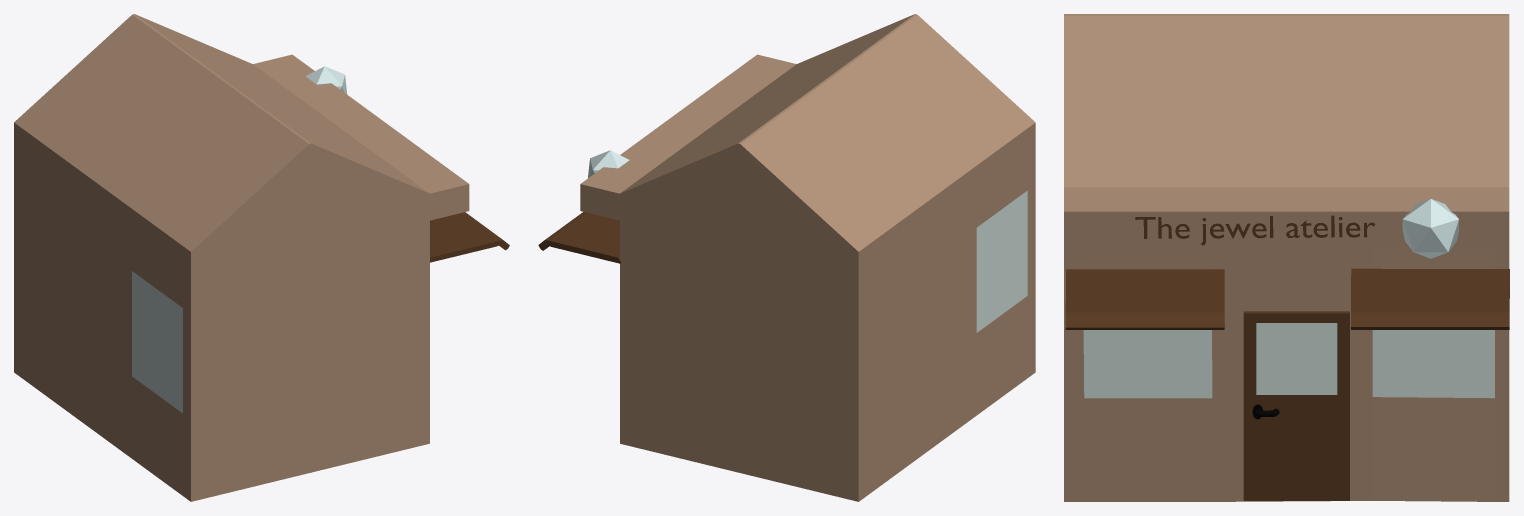
File: jewelatelier.fbx
3 renders of one model, left to right at view 1: azimuth 30°, elevation 25°; view 2: azimuth 150°, elevation 25°; view 3: azimuth 270°, elevation 25°, orthographic. The views are drawn at different scales.
Visible parts, largest first — view 1: Cube, Plane, Icosphere; view 2: Cube, Plane.001, Icosphere; view 3: Cube, Cube.003, Plane.001, Plane, Cube.001, Cube.002, Cube.004, Icosphere, Text.
Boxes of the visible parts, <box> form: Cube: <box>14,14,469,501</box>; Plane: <box>430,212,509,262</box>; Icosphere: <box>305,66,347,94</box>; Cube: <box>580,14,1035,501</box>; Plane.001: <box>538,212,620,263</box>; Icosphere: <box>588,150,629,177</box>; Cube: <box>1064,14,1509,501</box>; Cube.003: <box>1243,311,1349,500</box>; Plane.001: <box>1351,268,1509,329</box>; Plane: <box>1065,269,1224,329</box>; Cube.001: <box>1083,330,1212,398</box>; Cube.002: <box>1372,330,1494,398</box>; Cube.004: <box>1256,323,1337,394</box>; Icosphere: <box>1402,199,1458,258</box>; Text: <box>1135,215,1375,245</box>.
Size of the model in its own units: 719 by 706 by 689.
